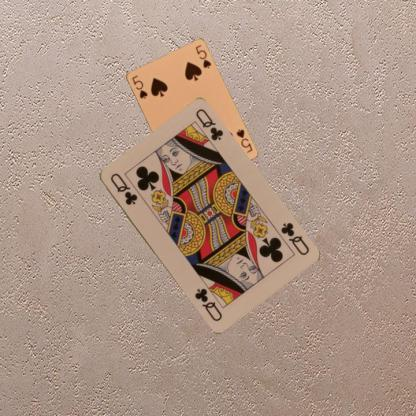5s: (233, 127, 254, 154), (129, 73, 148, 100)
Qc: (278, 219, 310, 256), (107, 170, 139, 206)
